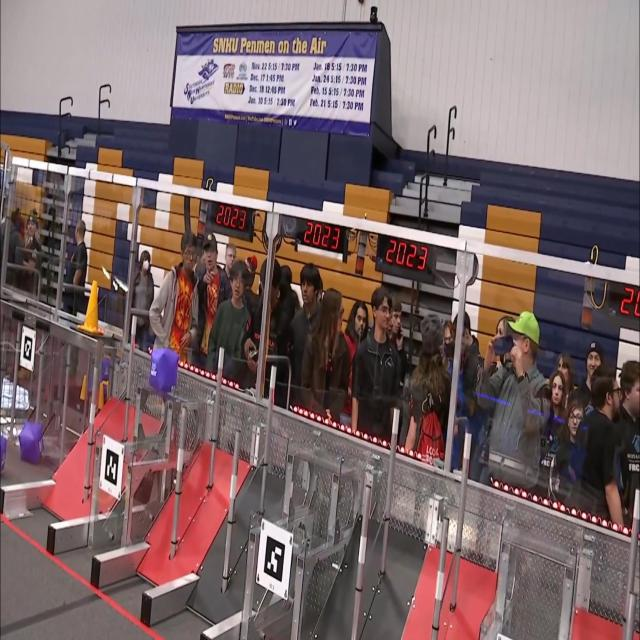frc_cone: (78, 278, 104, 336), (80, 373, 90, 402), (96, 381, 106, 410)
frc_cube: (149, 345, 179, 393), (20, 422, 44, 464), (100, 356, 111, 386), (0, 434, 7, 475)
